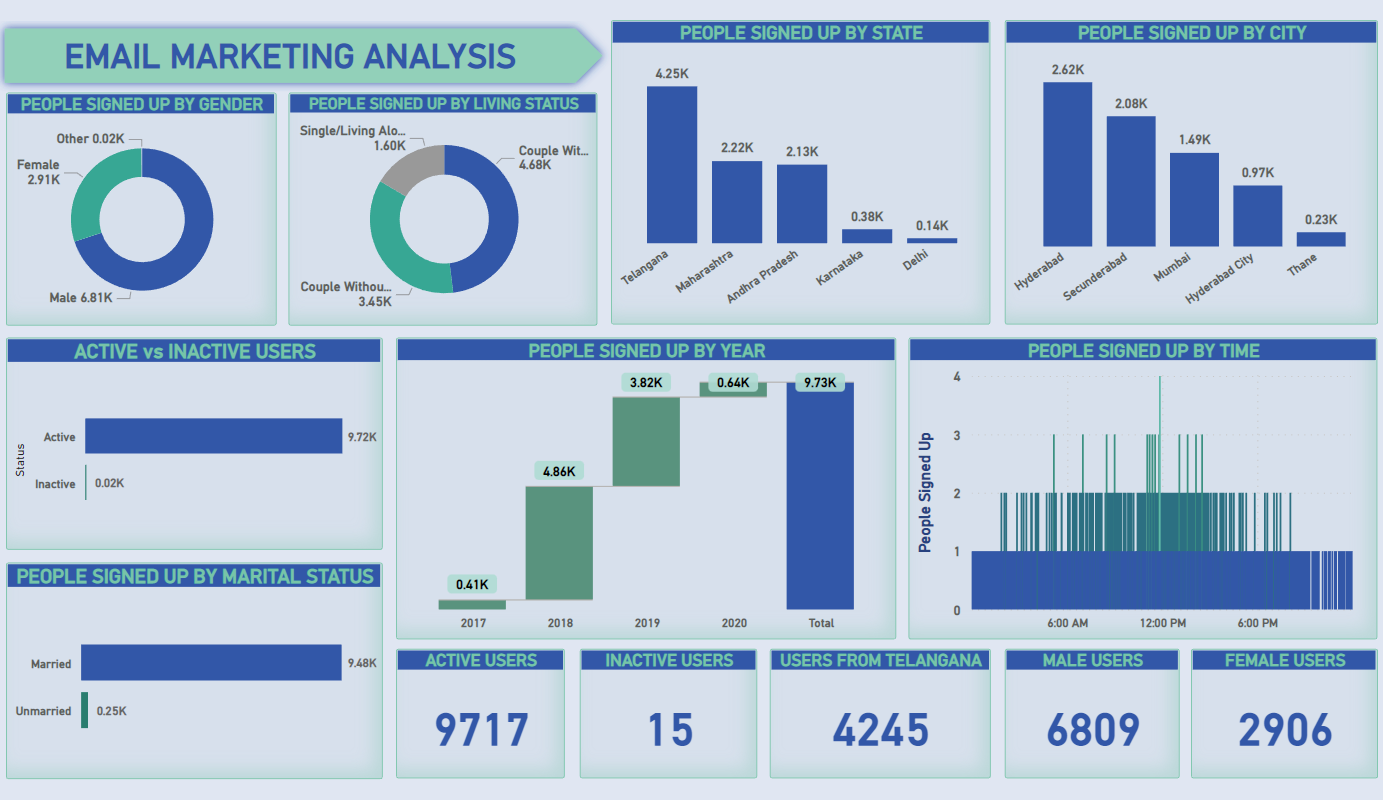

This screenshot's page, from the dashboard's own definition file:
{"tool":"powerbi","page":{"name":"Report","canvas":[1280,720],"ordinal":0},"visuals":[{"type":"donutChart","title":"PEOPLE SIGNED UP BY LIVING STATUS","fields":{"Category":["Email Marketing.Living Status"],"Y":["CountNonNull(Email Marketing.Living Status)"]},"box":[269.2,75.5,284.3,214.2],"z":0},{"type":"clusteredBarChart","title":"ACTIVE vs INACTIVE USERS","fields":{"Category":["Email Marketing.Status"],"Y":["CountNonNull(Email Marketing.Status)"]},"box":[9.6,300.8,346.1,195],"z":1},{"type":"clusteredBarChart","title":"PEOPLE SIGNED UP BY MARITAL STATUS","fields":{"Category":["Email Marketing.Marital Status"],"Y":["CountNonNull(Email Marketing.Marital Status)"]},"box":[9.6,508.2,346.1,199.1],"z":2},{"type":"donutChart","title":"PEOPLE SIGNED UP BY GENDER","fields":{"Category":["Email Marketing.Gender"],"Y":["CountNonNull(Email Marketing.Gender)"]},"box":[9.6,75.5,248.6,214.2],"z":3},{"type":"columnChart","title":"PEOPLE SIGNED UP BY STATE","fields":{"Category":["Email Marketing.State"],"Y":["CountNonNull(Email Marketing.State)"]},"box":[565.8,9.6,348.8,280.2],"z":5},{"type":"columnChart","title":"PEOPLE SIGNED UP BY CITY","fields":{"Y":["CountNonNull(Email Marketing.City)"],"Category":["Email Marketing.City"]},"box":[927,9.6,343.3,280.2],"z":6},{"type":"columnChart","title":"PEOPLE SIGNED UP BY TIME","fields":{"Category":["Email Marketing.Enrolled Time"],"Y":["CountNonNull(Email Marketing.Enrolled Time)"]},"box":[839.1,300.8,431.2,277.4],"z":7},{"type":"waterfallChart","title":"PEOPLE SIGNED UP BY YEAR","fields":{"Category":["Email Marketing.Enrolled Date.Variation.Date Hierarchy.Year","Email Marketing.Enrolled Date.Variation.Date Hierarchy.Quarter","Email Marketing.Enrolled Date.Variation.Date Hierarchy.Month","Email Marketing.Enrolled Date.Variation.Date Hierarchy.Day"],"Y":["CountNonNull(Email Marketing.Enrolled Date)"]},"box":[368.1,300.8,460.1,277.4],"z":8},{"type":"card","title":"ACTIVE USERS","fields":{"Values":["CountNonNull(Email Marketing.Status)"]},"box":[368.1,587.8,155.2,119.5],"z":9},{"type":"card","title":"USERS FROM TELANGANA","fields":{"Values":["CountNonNull(Email Marketing.State)"]},"box":[711.4,587.8,203.3,119.5],"z":10},{"type":"card","title":"MALE USERS","fields":{"Values":["CountNonNull(Email Marketing.Gender)"]},"box":[927,587.8,160.7,119.5],"z":11},{"type":"card","title":"FEMALE USERS","fields":{"Values":["CountNonNull(Email Marketing.Gender)"]},"box":[1098.7,587.8,171.7,119.5],"z":12},{"type":"card","title":"INACTIVE USERS","fields":{"Values":["CountNonNull(Email Marketing.Status)"]},"box":[537,587.8,163.4,119.5],"z":13},{"type":"shape","title":"EMAIL MARKETING ANALYSIS","box":[0,9.6,565.8,65.9],"z":14}]}

Visuals, with their boxes in screenshot pixels (x1, y1, x2, y2), scaled from the page's 1280x720 canvas onto the 1383x800 screenshot:
"PEOPLE SIGNED UP BY LIVING STATUS" donutChart: x1=291, y1=84, x2=598, y2=322
"ACTIVE vs INACTIVE USERS" clusteredBarChart: x1=10, y1=334, x2=384, y2=551
"PEOPLE SIGNED UP BY MARITAL STATUS" clusteredBarChart: x1=10, y1=565, x2=384, y2=786
"PEOPLE SIGNED UP BY GENDER" donutChart: x1=10, y1=84, x2=279, y2=322
"PEOPLE SIGNED UP BY STATE" columnChart: x1=611, y1=11, x2=988, y2=322
"PEOPLE SIGNED UP BY CITY" columnChart: x1=1002, y1=11, x2=1373, y2=322
"PEOPLE SIGNED UP BY TIME" columnChart: x1=907, y1=334, x2=1373, y2=642
"PEOPLE SIGNED UP BY YEAR" waterfallChart: x1=398, y1=334, x2=895, y2=642
"ACTIVE USERS" card: x1=398, y1=653, x2=565, y2=786
"USERS FROM TELANGANA" card: x1=769, y1=653, x2=988, y2=786
"MALE USERS" card: x1=1002, y1=653, x2=1175, y2=786
"FEMALE USERS" card: x1=1187, y1=653, x2=1373, y2=786
"INACTIVE USERS" card: x1=580, y1=653, x2=757, y2=786
"EMAIL MARKETING ANALYSIS" shape: x1=0, y1=11, x2=611, y2=84
